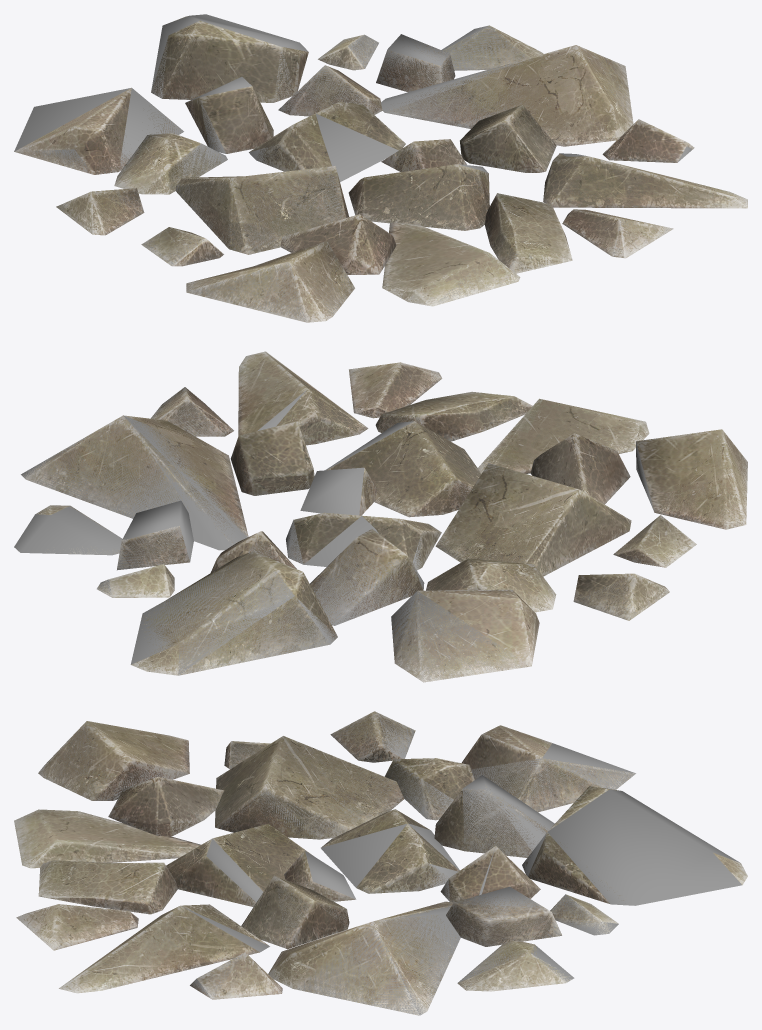
The model's file is z_debris_big_01.FBX.
3 views of the same model, one above another, from view 1: azimuth 30°, elevation 25°; view 2: azimuth 150°, elevation 25°; view 3: azimuth 270°, elevation 25° (orthographic). The views are drawn at different scales.
Parts seen in each view (by area): view 1: debris_big_01_LOD0, debris_big_01_CLOD0; view 2: debris_big_01_LOD0, debris_big_01_CLOD0; view 3: debris_big_01_LOD0, debris_big_01_CLOD0.
Boxes of the visible parts, bbox=[...] form: debris_big_01_LOD0: bbox=[14, 16, 747, 322]; debris_big_01_CLOD0: bbox=[14, 14, 691, 321]; debris_big_01_LOD0: bbox=[21, 351, 747, 682]; debris_big_01_CLOD0: bbox=[14, 374, 731, 676]; debris_big_01_LOD0: bbox=[14, 711, 747, 1015]; debris_big_01_CLOD0: bbox=[47, 712, 741, 1015].
Size of what is drawn, in the model's own units: 209 by 20.49 by 227.
